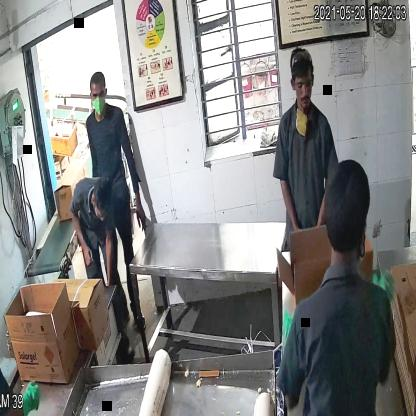no_goggles: (289, 76, 314, 94), (89, 87, 109, 102)
